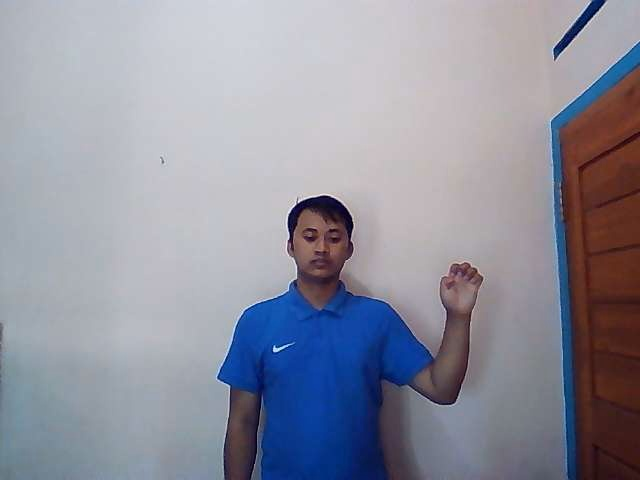E: (438, 262, 485, 315)
